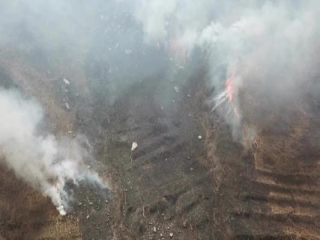fire: (222, 80, 243, 104)
smoke: (3, 95, 100, 212), (153, 9, 275, 72)
